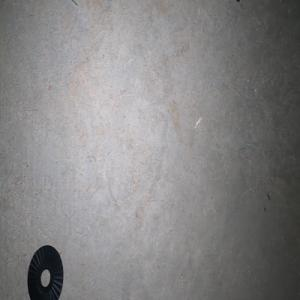Washer: (27, 244, 63, 300)
